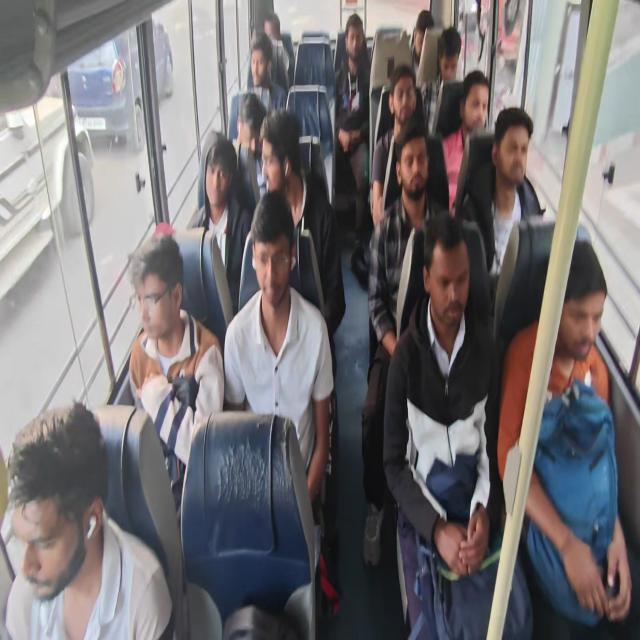person: (4, 3, 636, 638), (382, 210, 533, 638), (497, 237, 633, 637), (4, 401, 174, 638), (361, 119, 450, 567), (223, 189, 334, 506), (128, 231, 224, 524), (252, 108, 346, 381), (458, 106, 545, 298), (189, 134, 252, 314), (370, 63, 426, 229), (333, 13, 371, 246), (441, 69, 490, 213), (423, 27, 462, 134), (233, 91, 267, 202), (247, 32, 286, 112), (262, 11, 292, 91), (410, 9, 434, 78), (436, 26, 462, 85)
